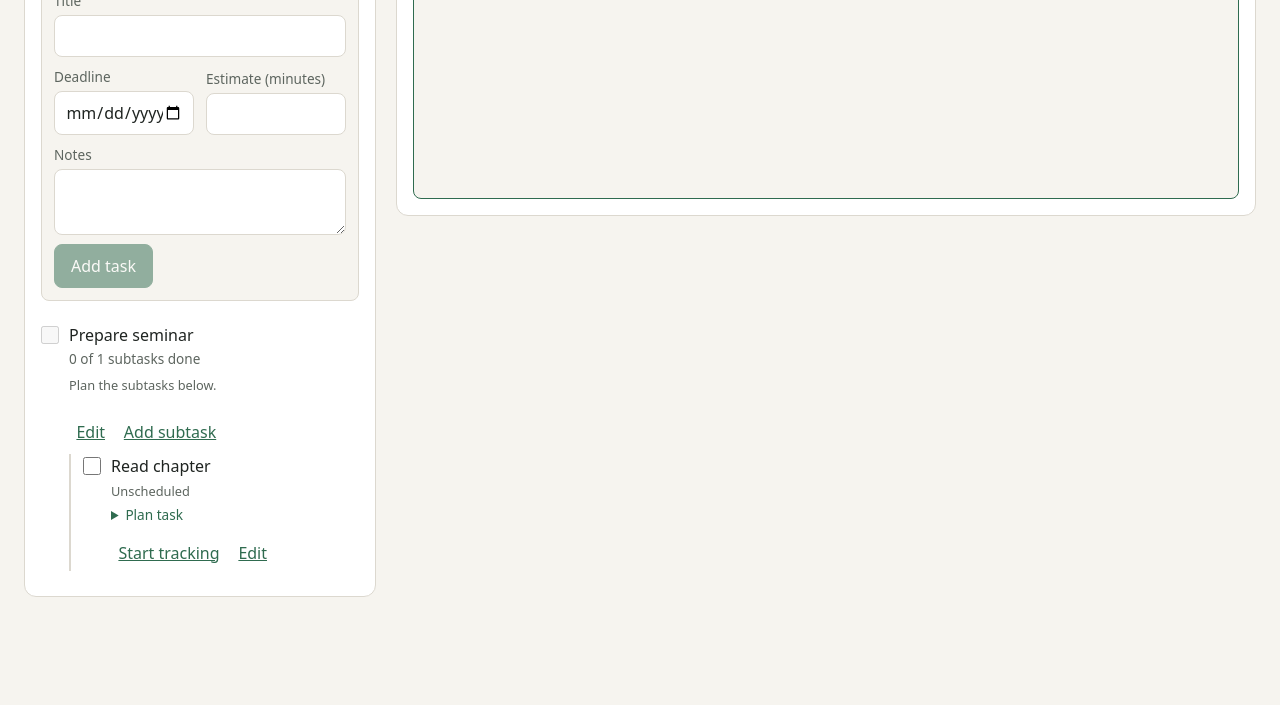
finishing a child save preserves a different editor opened while it was pending
(page scrolled)
Click the button "Edit" below "Plan task" at (253, 553), box [231,535,274,571]
(page scrolled)
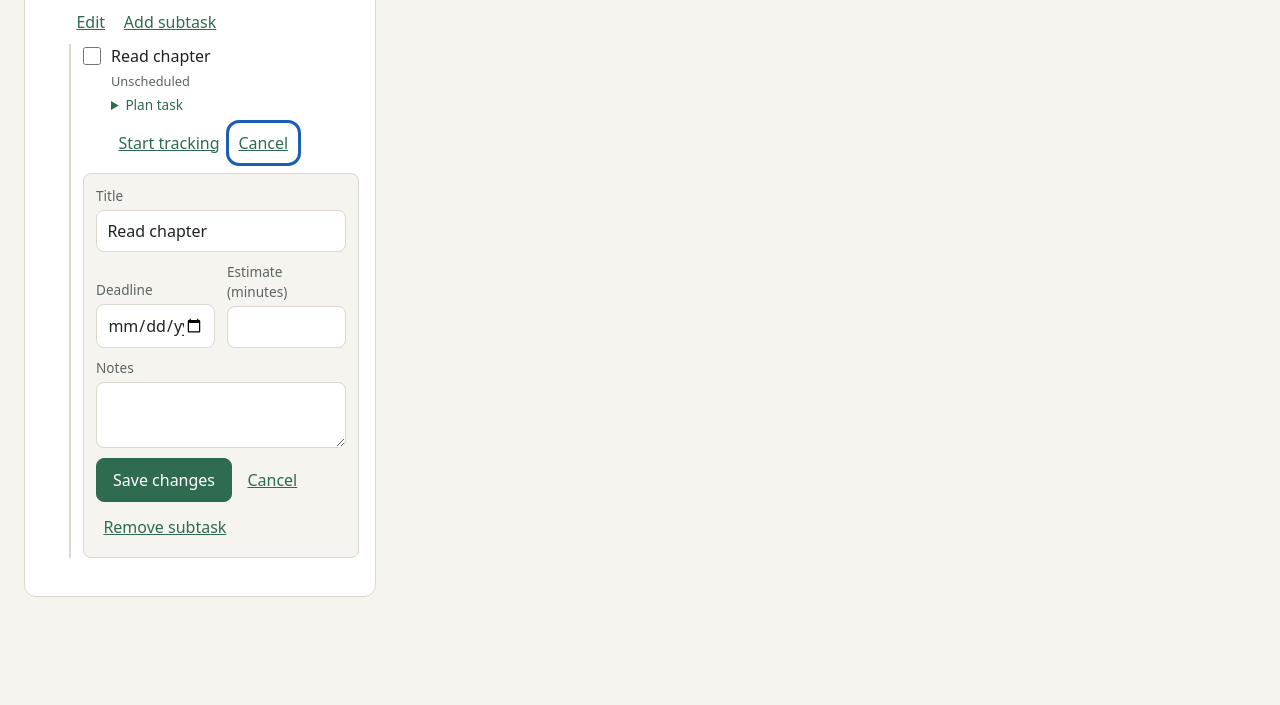
Click the button "Save changes" at (164, 480), box [96,458,232,502]
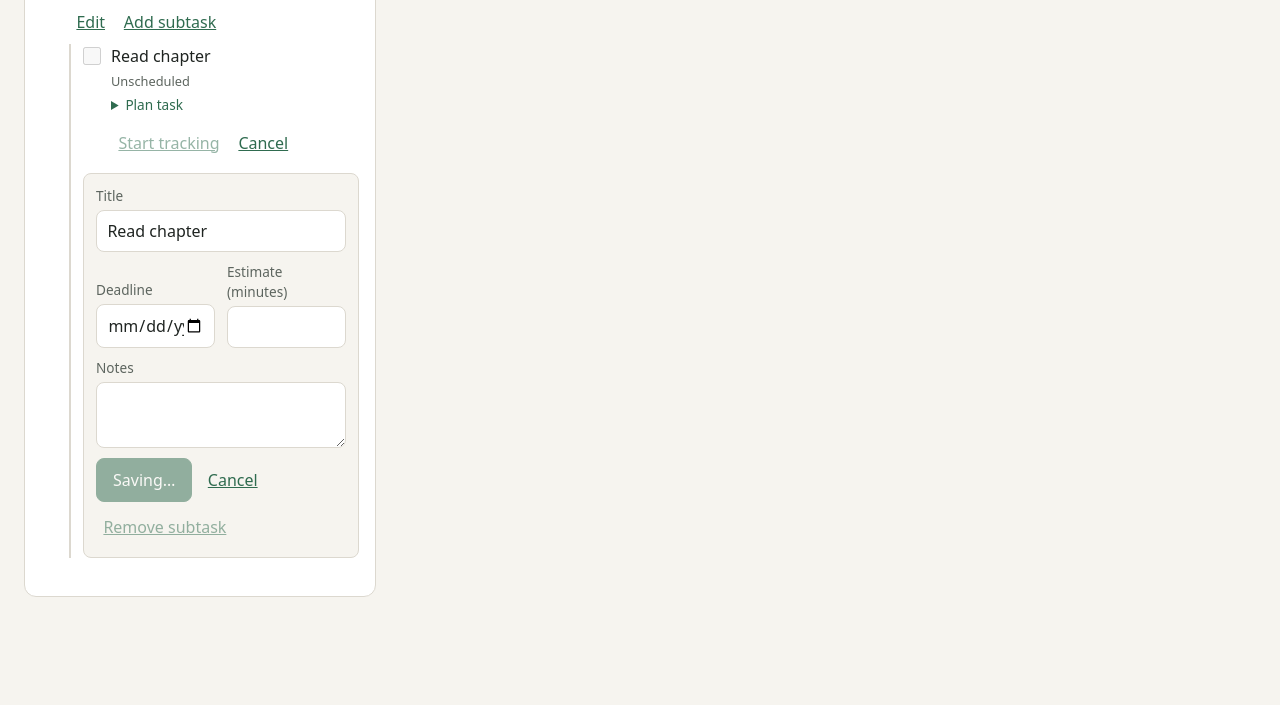
Click the button "Edit" at (91, 22), box [69,4,112,40]
(page scrolled)
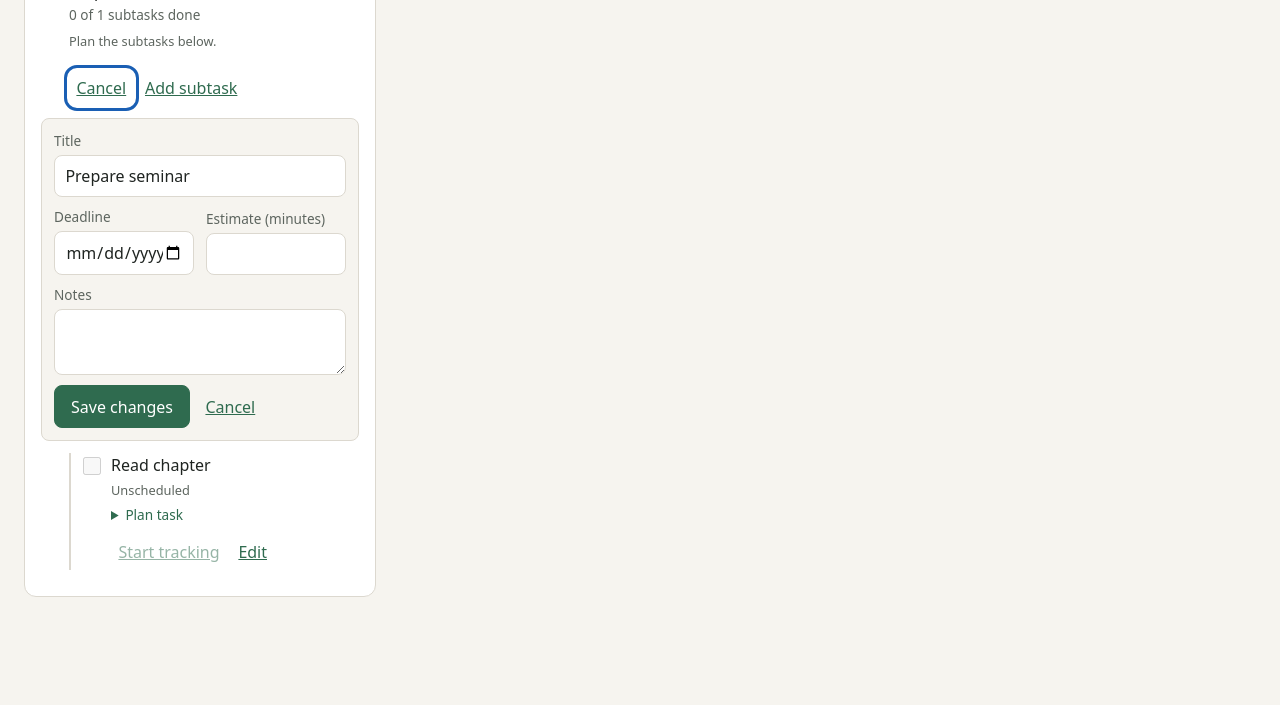
Replace the text in the field labelled "Title" with "Seminar draft still open" at (200, 176), box [54,155,346,197]
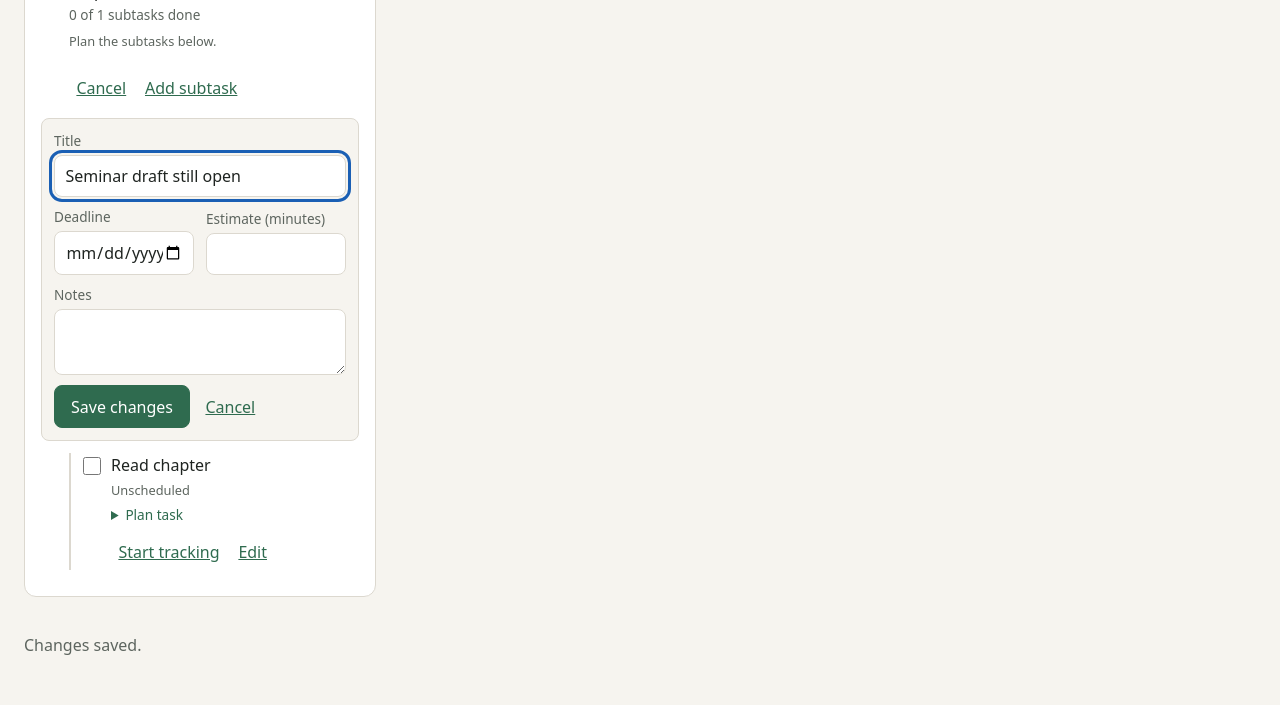
Expected: the button "Save changes" is enabled, [54,385,190,428]
Expected: the message reads "Changes saved.", [24,634,142,656]
